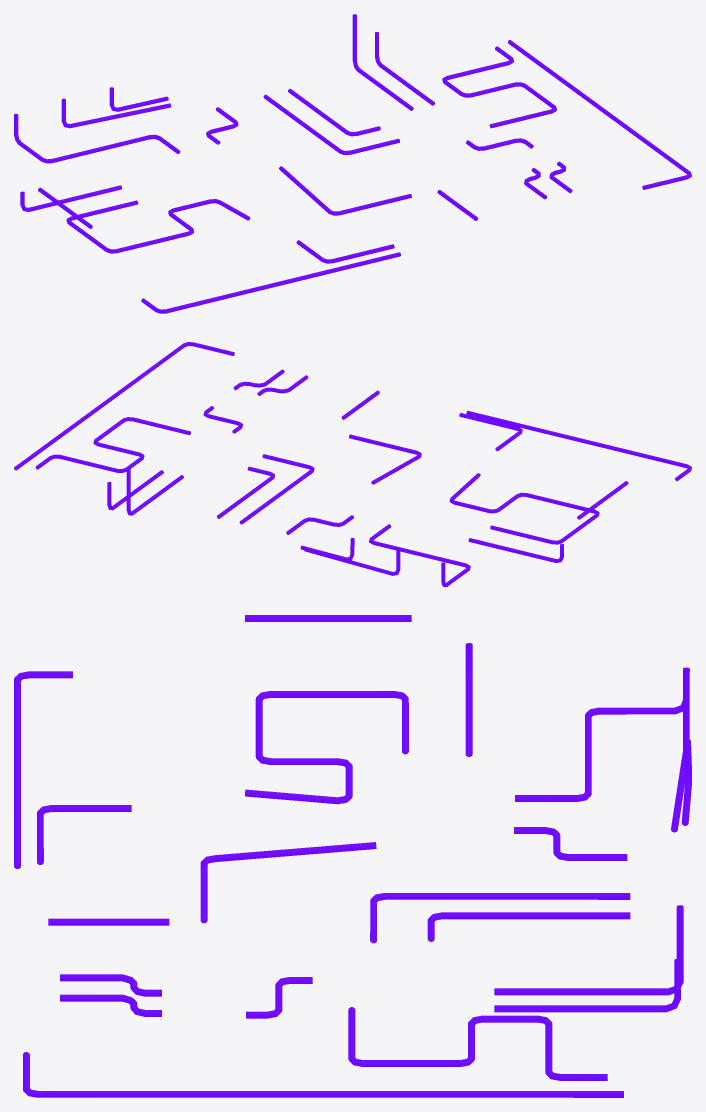
Rendered from Chords.fbx.
The picture shows the model from 3 angles, top to bottom: view 1: azimuth 30°, elevation 25°; view 2: azimuth 150°, elevation 25°; view 3: azimuth 270°, elevation 25°; orthographic projection. The views are drawn at different scales.
Visible parts, largest first — view 1: Plane.003; view 2: Plane.003; view 3: Plane.003.
Boxes of the visible parts, left/top/right/bottom form: Plane.003: left=14, top=14, right=691, bottom=313; Plane.003: left=14, top=342, right=691, bottom=586; Plane.003: left=14, top=615, right=691, bottom=1097.
Size of the model in its own units: 1160 by 111 by 774.
